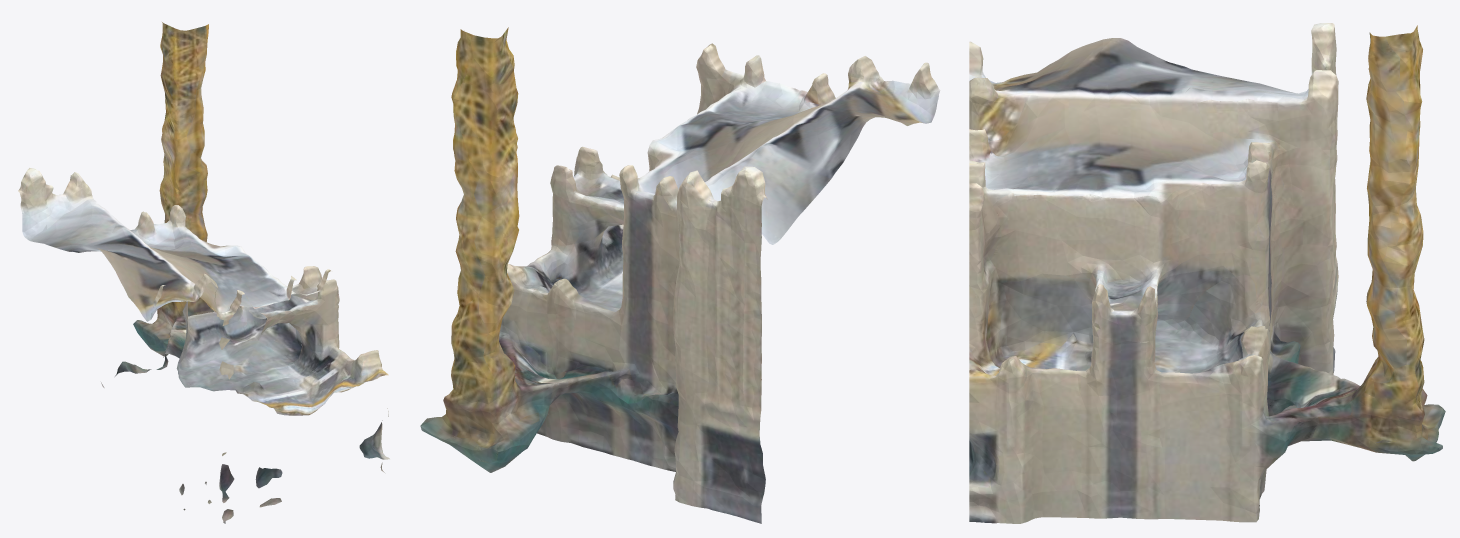
Rendered from Tile__003__001_L22_00052210.glb.
3 renders of one model, left to right at view 1: azimuth 30°, elevation 25°; view 2: azimuth 150°, elevation 25°; view 3: azimuth 270°, elevation 25°, orthographic. The views are drawn at different scales.
Visible parts, largest first — view 1: root; view 2: root; view 3: root.
Part boxes in pixels (left/top/right/bottom): root: left=18, top=22, right=389, bottom=523; root: left=420, top=27, right=940, bottom=523; root: left=969, top=23, right=1445, bottom=523.
Size of the model in its own units: 8.68 by 12.16 by 11.23.
Materials: 1 (1 with a texture image).
